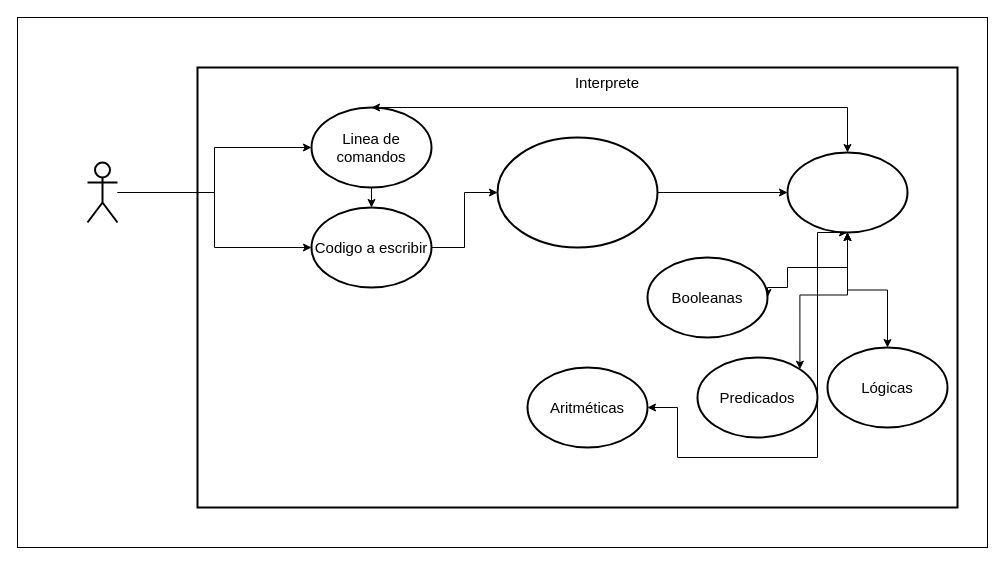
Some shapes in this 1005 by 565 pixel diagram are drawn without their labels. The shapes that lost their labels are listed below. From the top down, each one's centre as x and y in pixels, then its label:
At point (102, 192): "User".
At point (577, 192): "Lectura y análisis de los carácteres ingresados.".
At point (847, 192): "Operaciones".
